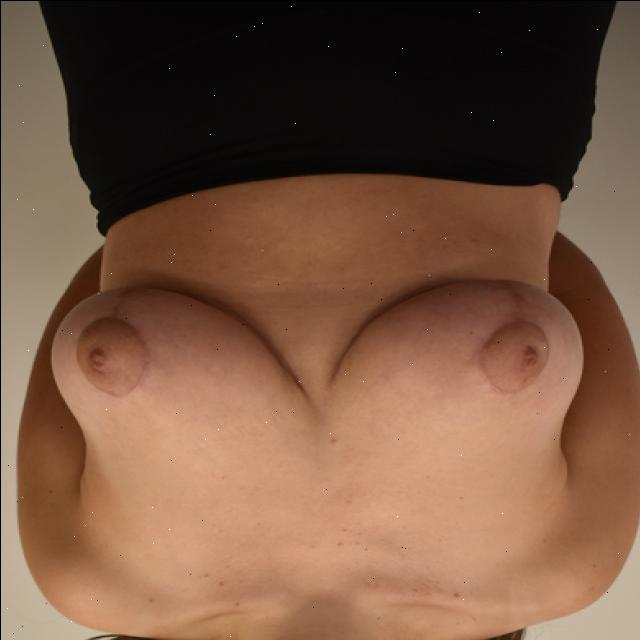Seno herido: (39, 258, 316, 536), (323, 258, 593, 536)
